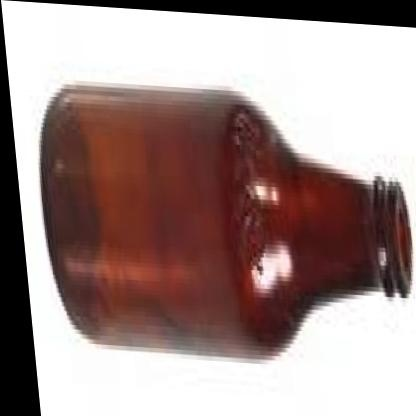trash: (41, 85, 410, 356)
